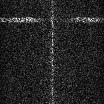wifi: (1, 17, 104, 21)
